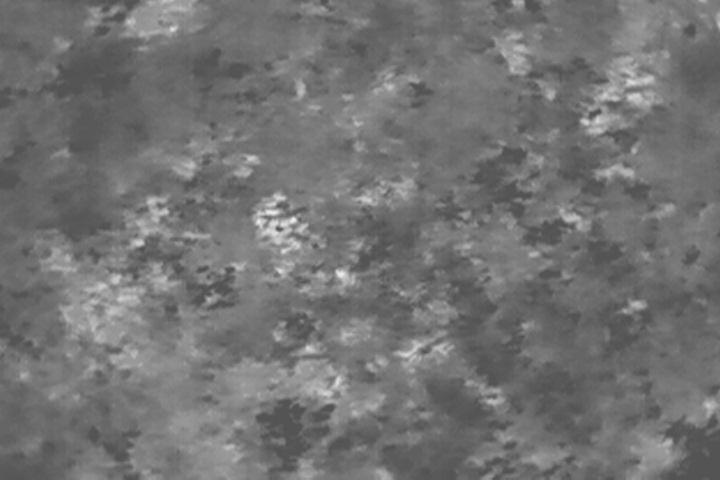landmine: (251, 192, 305, 247)
